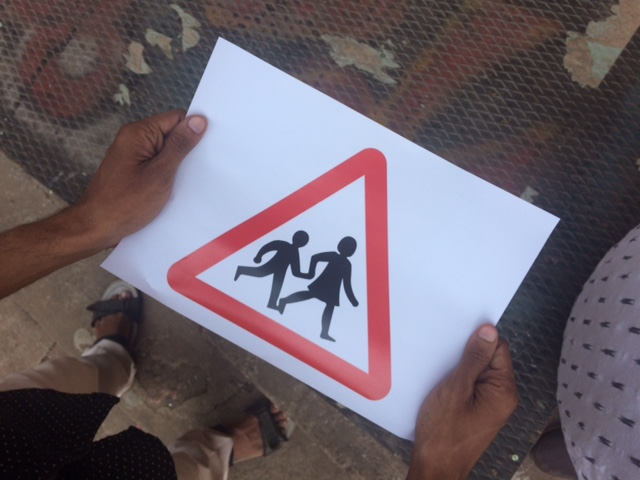sign: (175, 139, 396, 402)
